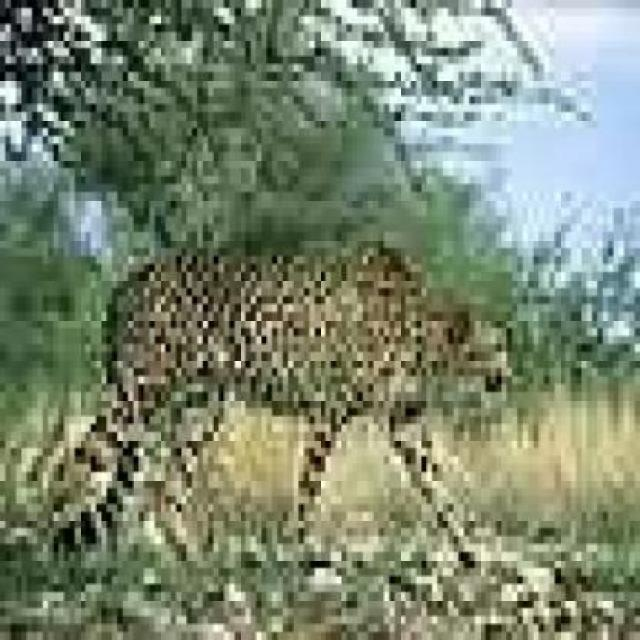Leopard: (40, 219, 542, 607)
